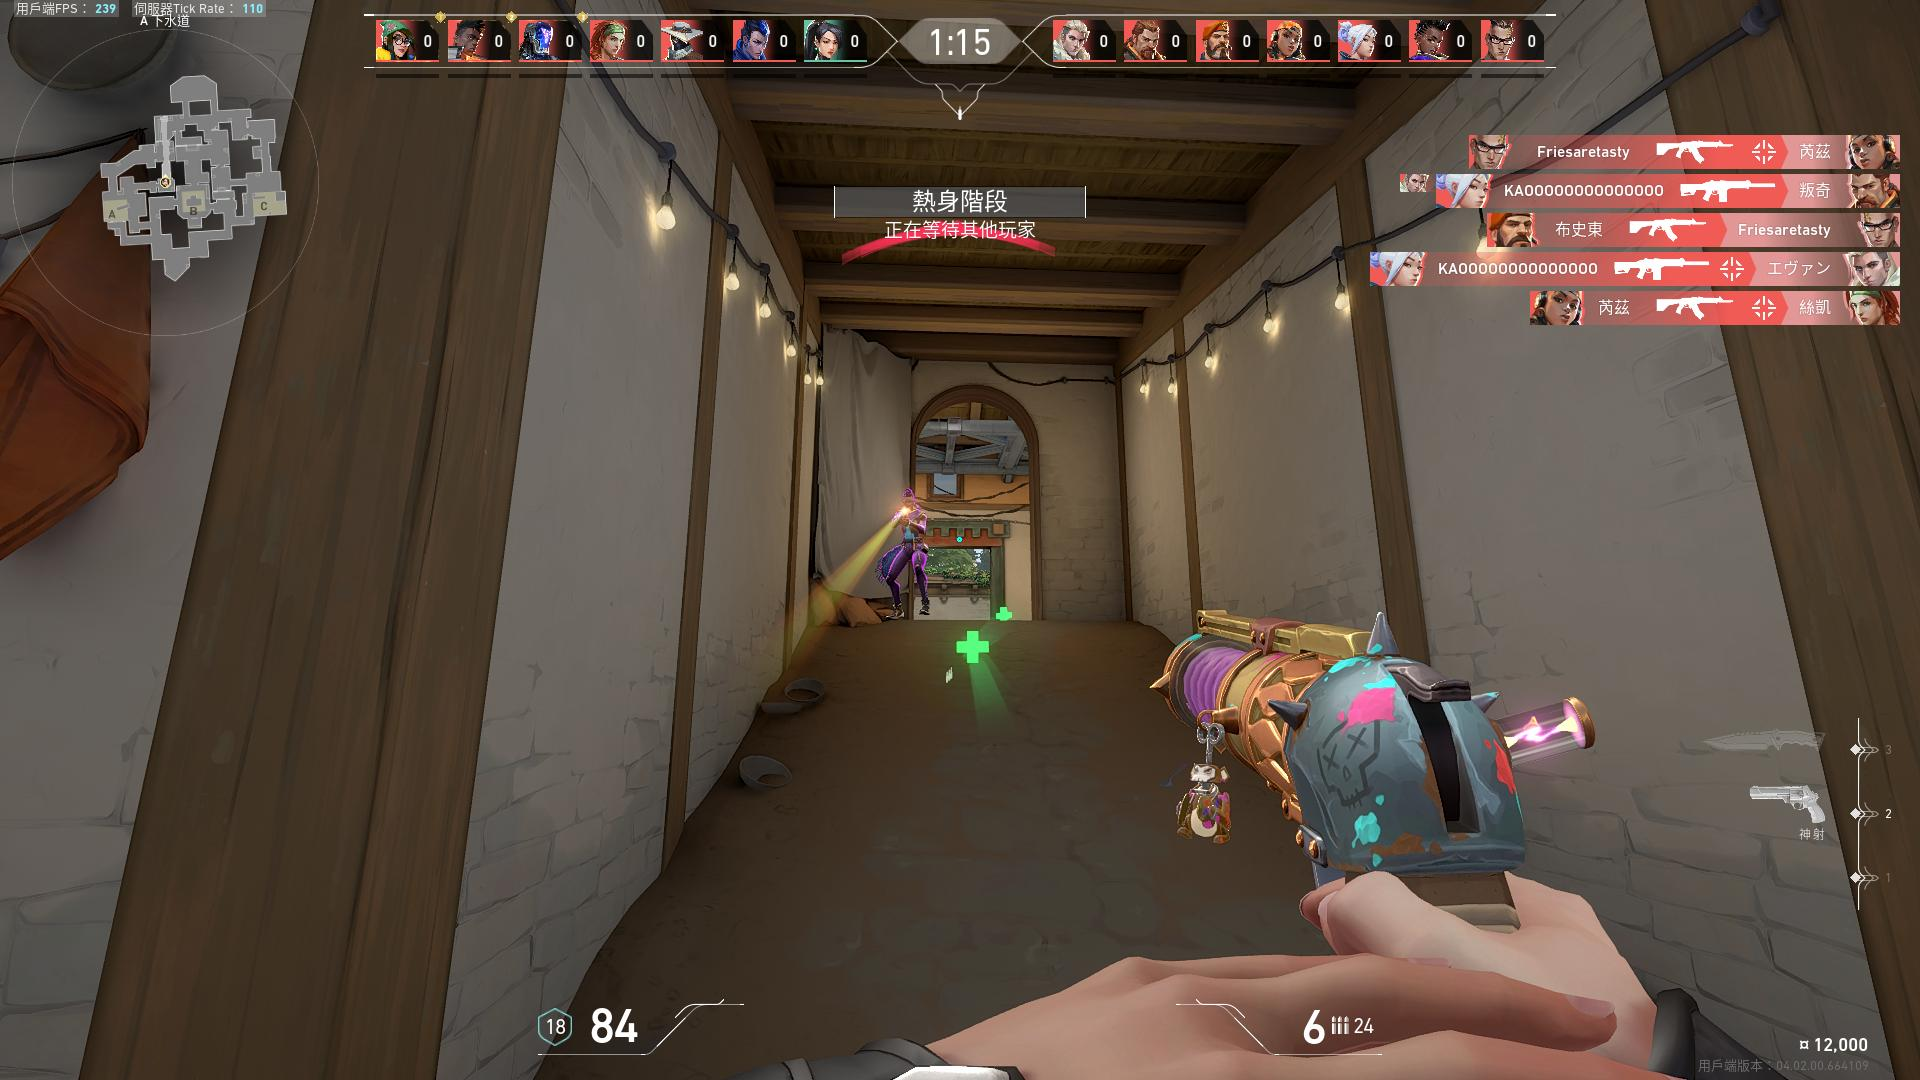enemyBody: (903, 512, 916, 543)
enemyHead: (905, 497, 914, 509)
